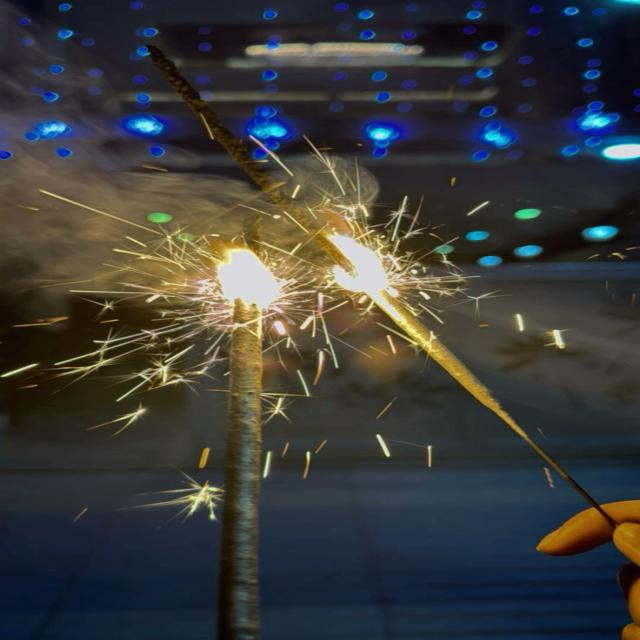fire: (328, 233, 400, 307), (214, 248, 293, 310)
